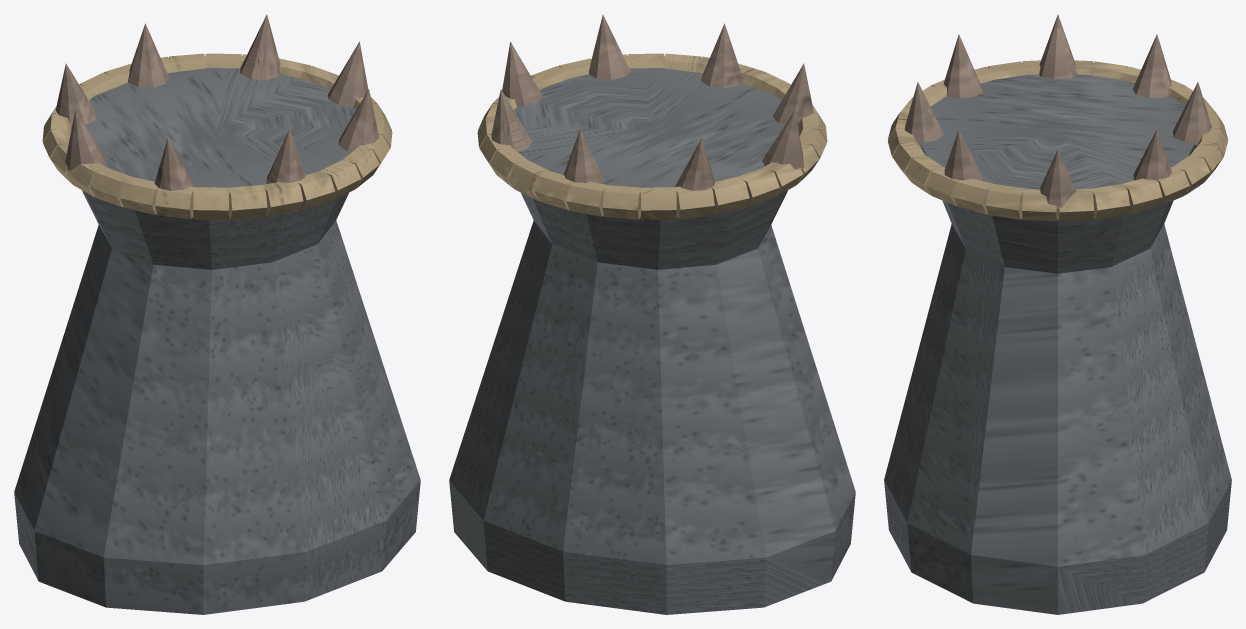
File: piecewise_bridge_pedestal.glb
3 views of the same model, side by side, from view 1: azimuth 30°, elevation 25°; view 2: azimuth 150°, elevation 25°; view 3: azimuth 270°, elevation 25° (orthographic). The views are drawn at different scales.
Visible parts, largest first — view 1: stone, gold, bronze; view 2: stone, gold, bronze; view 3: stone, gold, bronze.
Part boxes in pixels (x1,y1,x2,y2): stone: (14, 68, 420, 614); gold: (42, 53, 392, 219); bronze: (55, 14, 379, 190); stone: (449, 68, 855, 614); gold: (477, 53, 827, 219); bronze: (491, 14, 813, 190); stone: (884, 74, 1231, 614); gold: (888, 60, 1227, 221); bronze: (904, 14, 1211, 210).
Bounding box in the file's own units: 1.7 × 2.05 × 1.44.
Materials: 3 (3 with a texture image).
